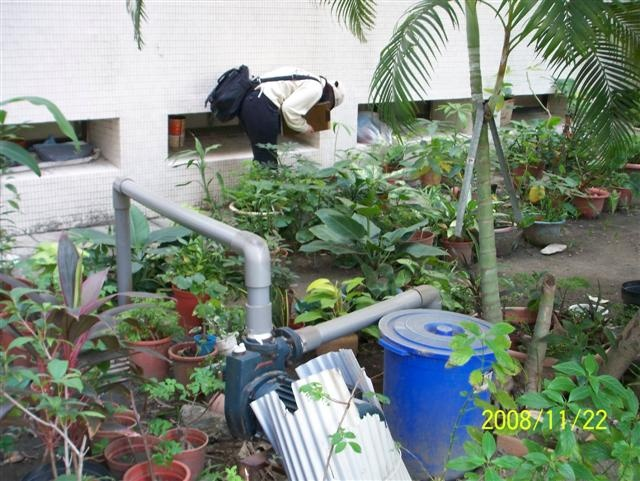bucket: (375, 307, 512, 481), (167, 114, 187, 154)
